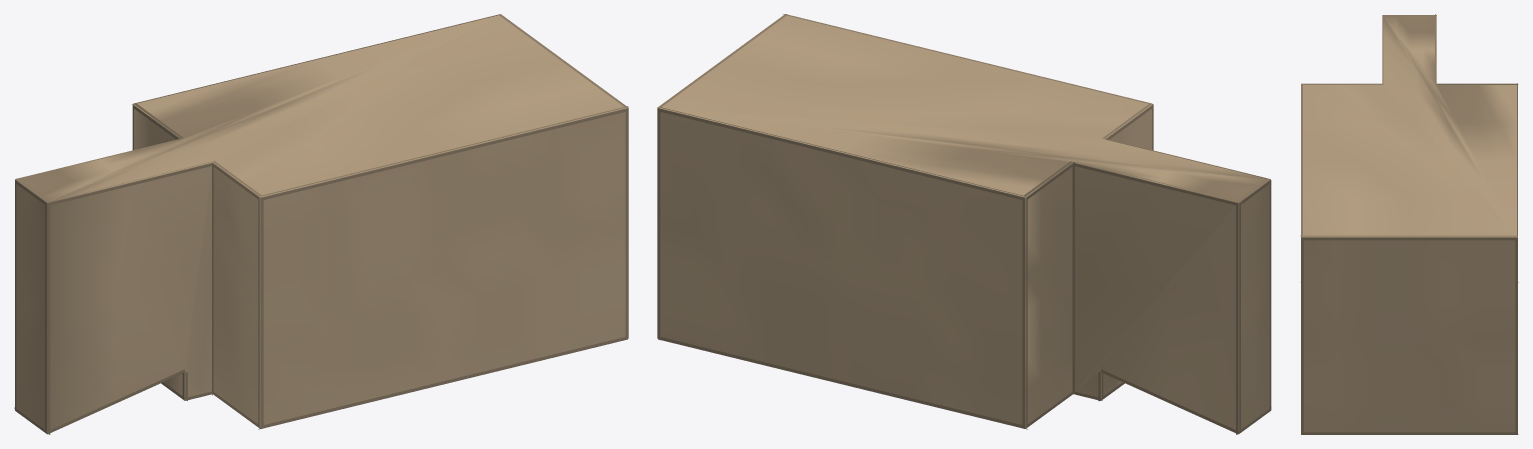
The picture shows the model from 3 angles, left to right: view 1: azimuth 30°, elevation 25°; view 2: azimuth 150°, elevation 25°; view 3: azimuth 270°, elevation 25°; orthographic projection. The views are drawn at different scales.
Visible parts, largest first — view 1: part-b; view 2: part-b; view 3: part-b.
Part boxes in pixels (x1,y1,x2,y2): part-b: [14, 14, 628, 434]; part-b: [657, 14, 1271, 434]; part-b: [1300, 14, 1518, 434].
Size of the model in its own units: 0.2922 by 0.1222 by 0.1208.
